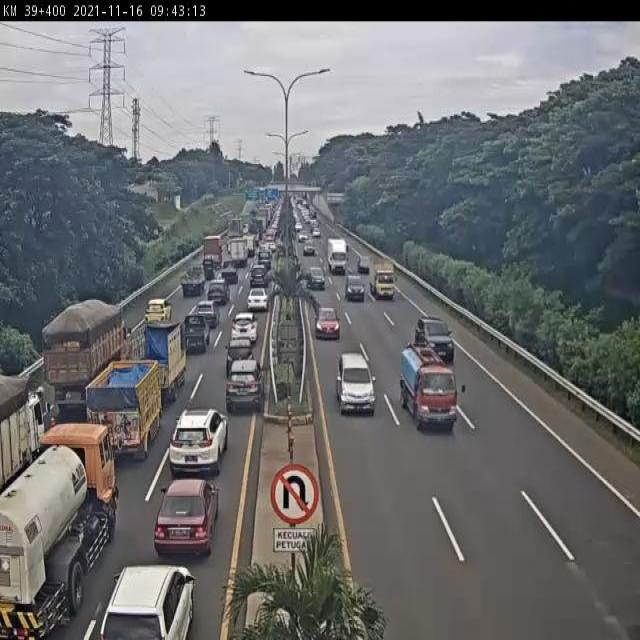car: (97, 562, 196, 640), (152, 476, 219, 560), (166, 405, 228, 472), (335, 351, 378, 416), (225, 360, 265, 413), (414, 315, 455, 361), (177, 313, 211, 356), (226, 337, 254, 376), (315, 305, 340, 340), (144, 297, 172, 327), (231, 312, 258, 343), (195, 299, 220, 329), (246, 287, 269, 312), (207, 280, 229, 305), (305, 266, 327, 290), (344, 275, 365, 300), (219, 259, 239, 284), (249, 264, 269, 288)
small truck: (400, 344, 458, 435), (369, 257, 395, 300), (179, 265, 205, 296)
truck-l-: (0, 417, 124, 640), (34, 300, 126, 423), (0, 369, 51, 491)
truck-m-: (87, 360, 163, 460), (128, 322, 193, 407)
